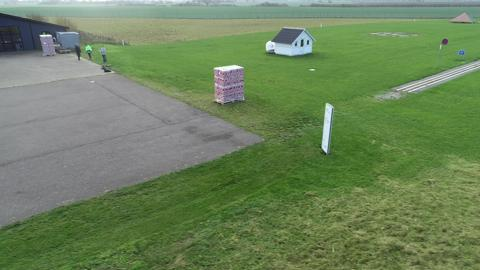RockwoolPallet: (39, 34, 56, 58)
